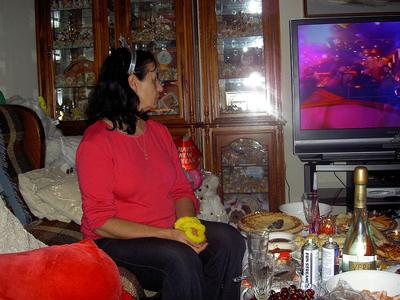person: (75, 46, 246, 299)
